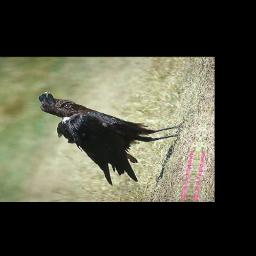Crow: (22, 91, 188, 188)
